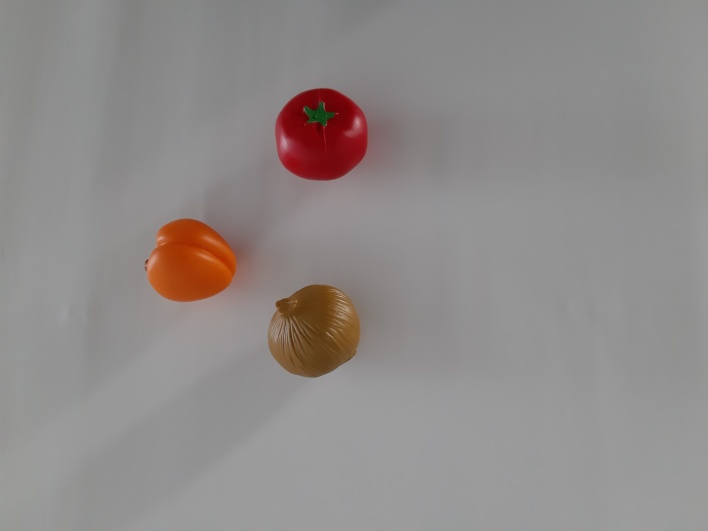apricot: (127, 205, 252, 314)
onion: (260, 276, 374, 394)
tomato: (261, 71, 389, 199)
